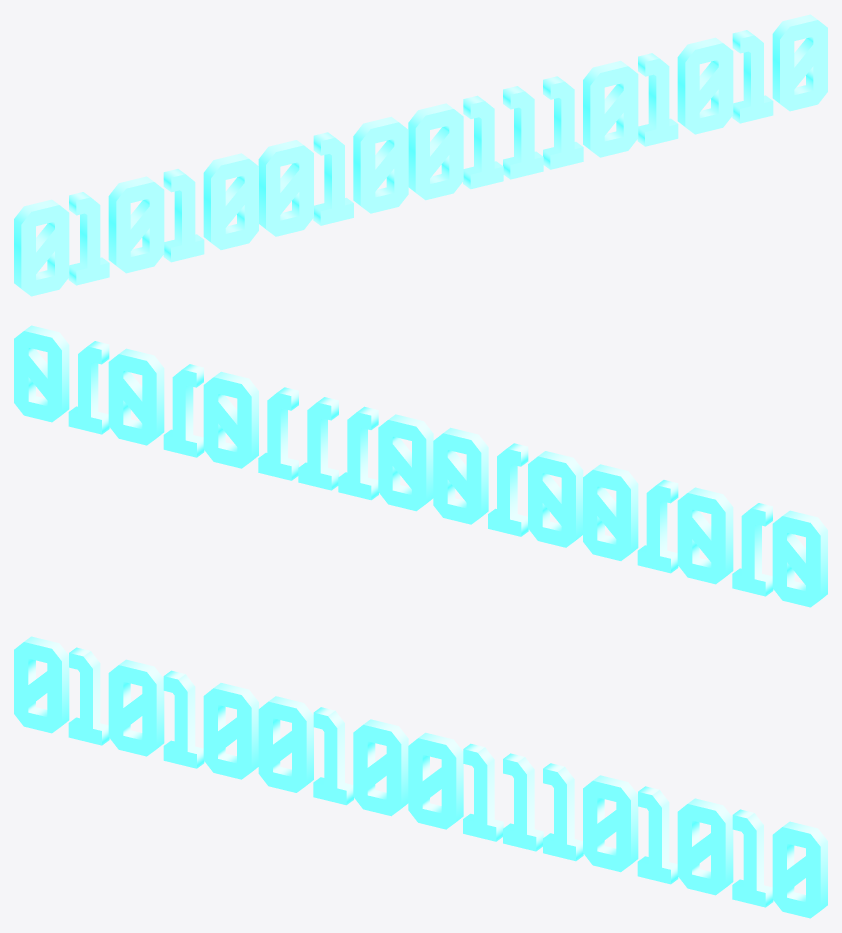
File: boundary_Blue.fbx
3 renders of one model, top to bottom at view 1: azimuth 30°, elevation 25°; view 2: azimuth 150°, elevation 25°; view 3: azimuth 330°, elevation 25°, orthographic.
Parts seen in each view (by area): view 1: Text_Blue; view 2: Text_Blue; view 3: Text_Blue.
Part boxes in pixels (x1,y1,x2,y2): Text_Blue: [14, 14, 827, 296]; Text_Blue: [14, 325, 827, 607]; Text_Blue: [14, 636, 827, 918].
Size of the model in its own units: 746 by 74.9 by 12.
